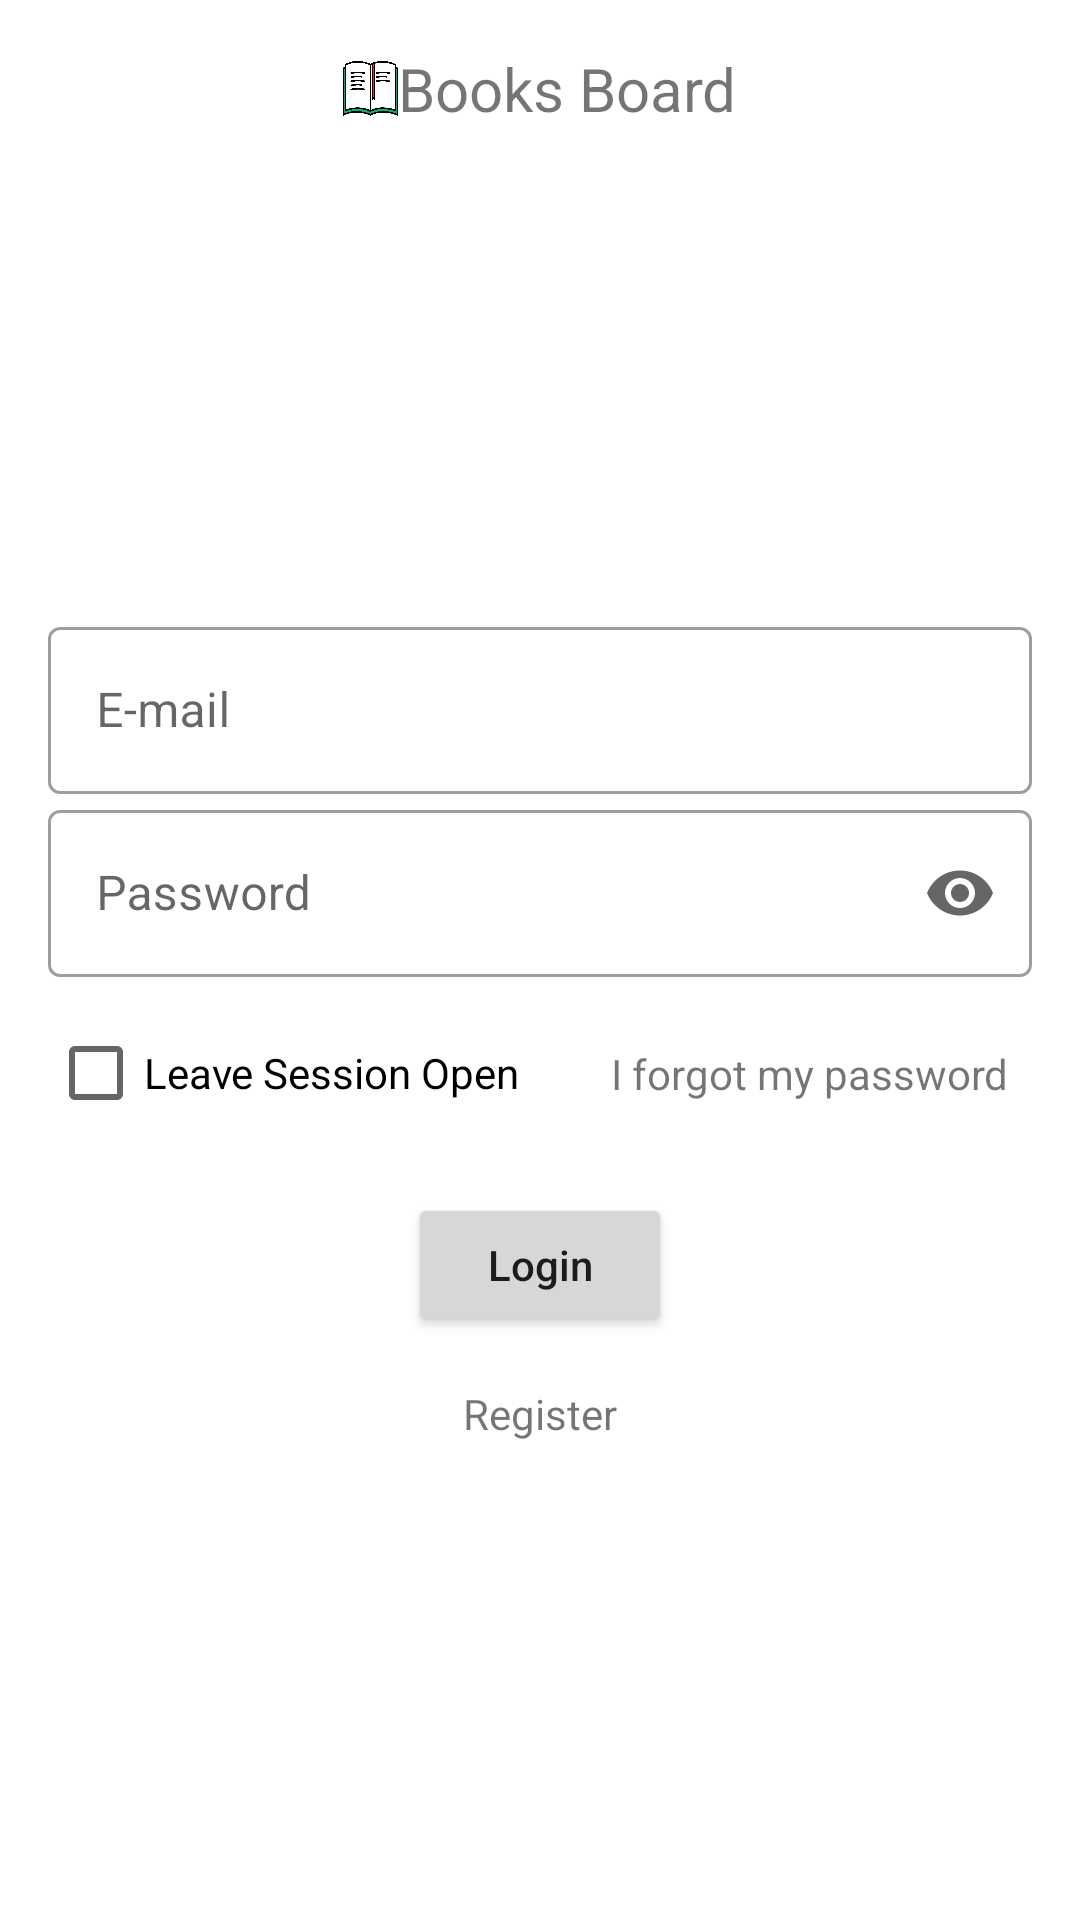

Screen size 1080x1920. Icon name, then its box in pixels as (x1, y1, x2, y2):
App Icon: (343, 61, 398, 116)
